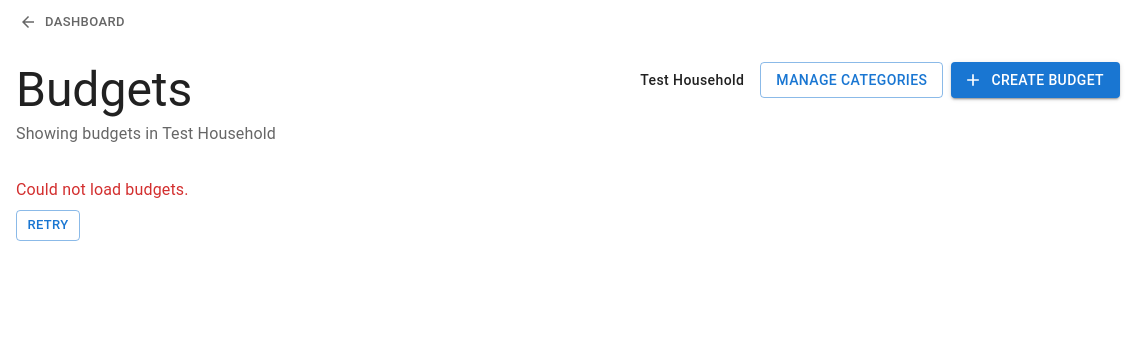
Test: BudgetsPage list › retries the fetch when Retry is clicked
Check: the text "Could not load budgets." is shown, box [16, 180, 189, 199]
What coordinates should you click on to do the following:
click the button "Retry"
I would click on:
 (48, 225)
Its box is [16, 210, 80, 241].
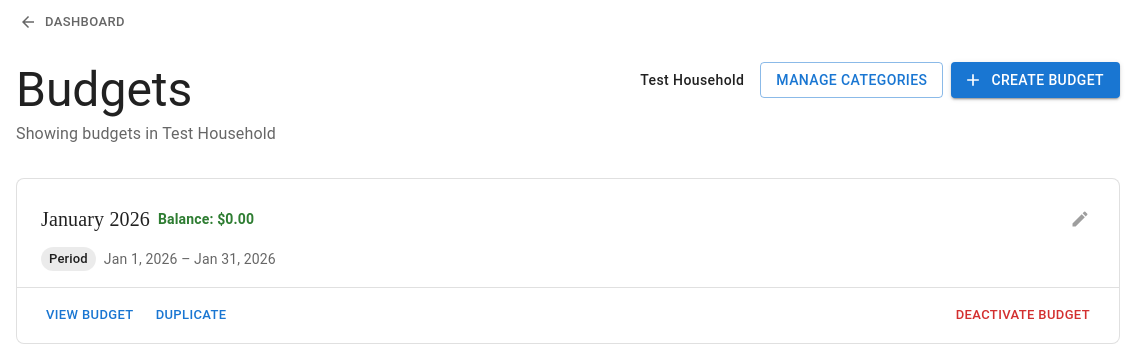
Check: the heading "January 2026" is shown, box [41, 203, 150, 235]
